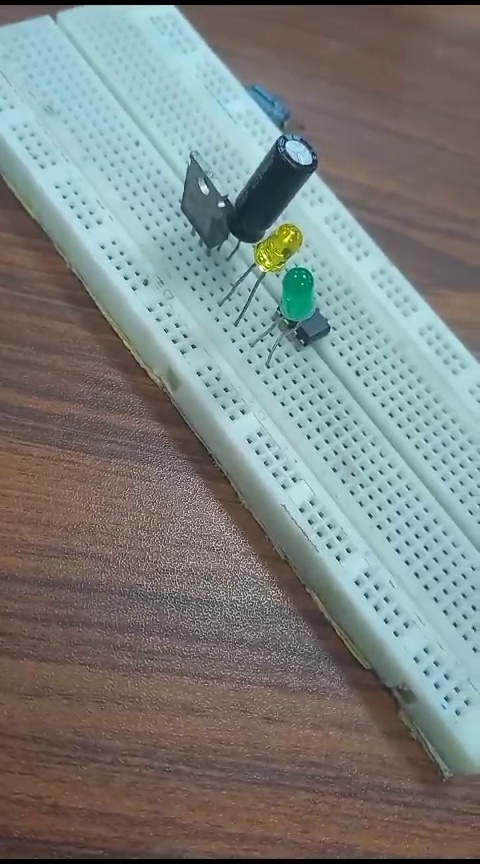LED: (276, 267, 324, 351), (239, 229, 319, 277)
capacitor: (251, 113, 318, 225)
voltage regulator: (164, 149, 235, 252)
